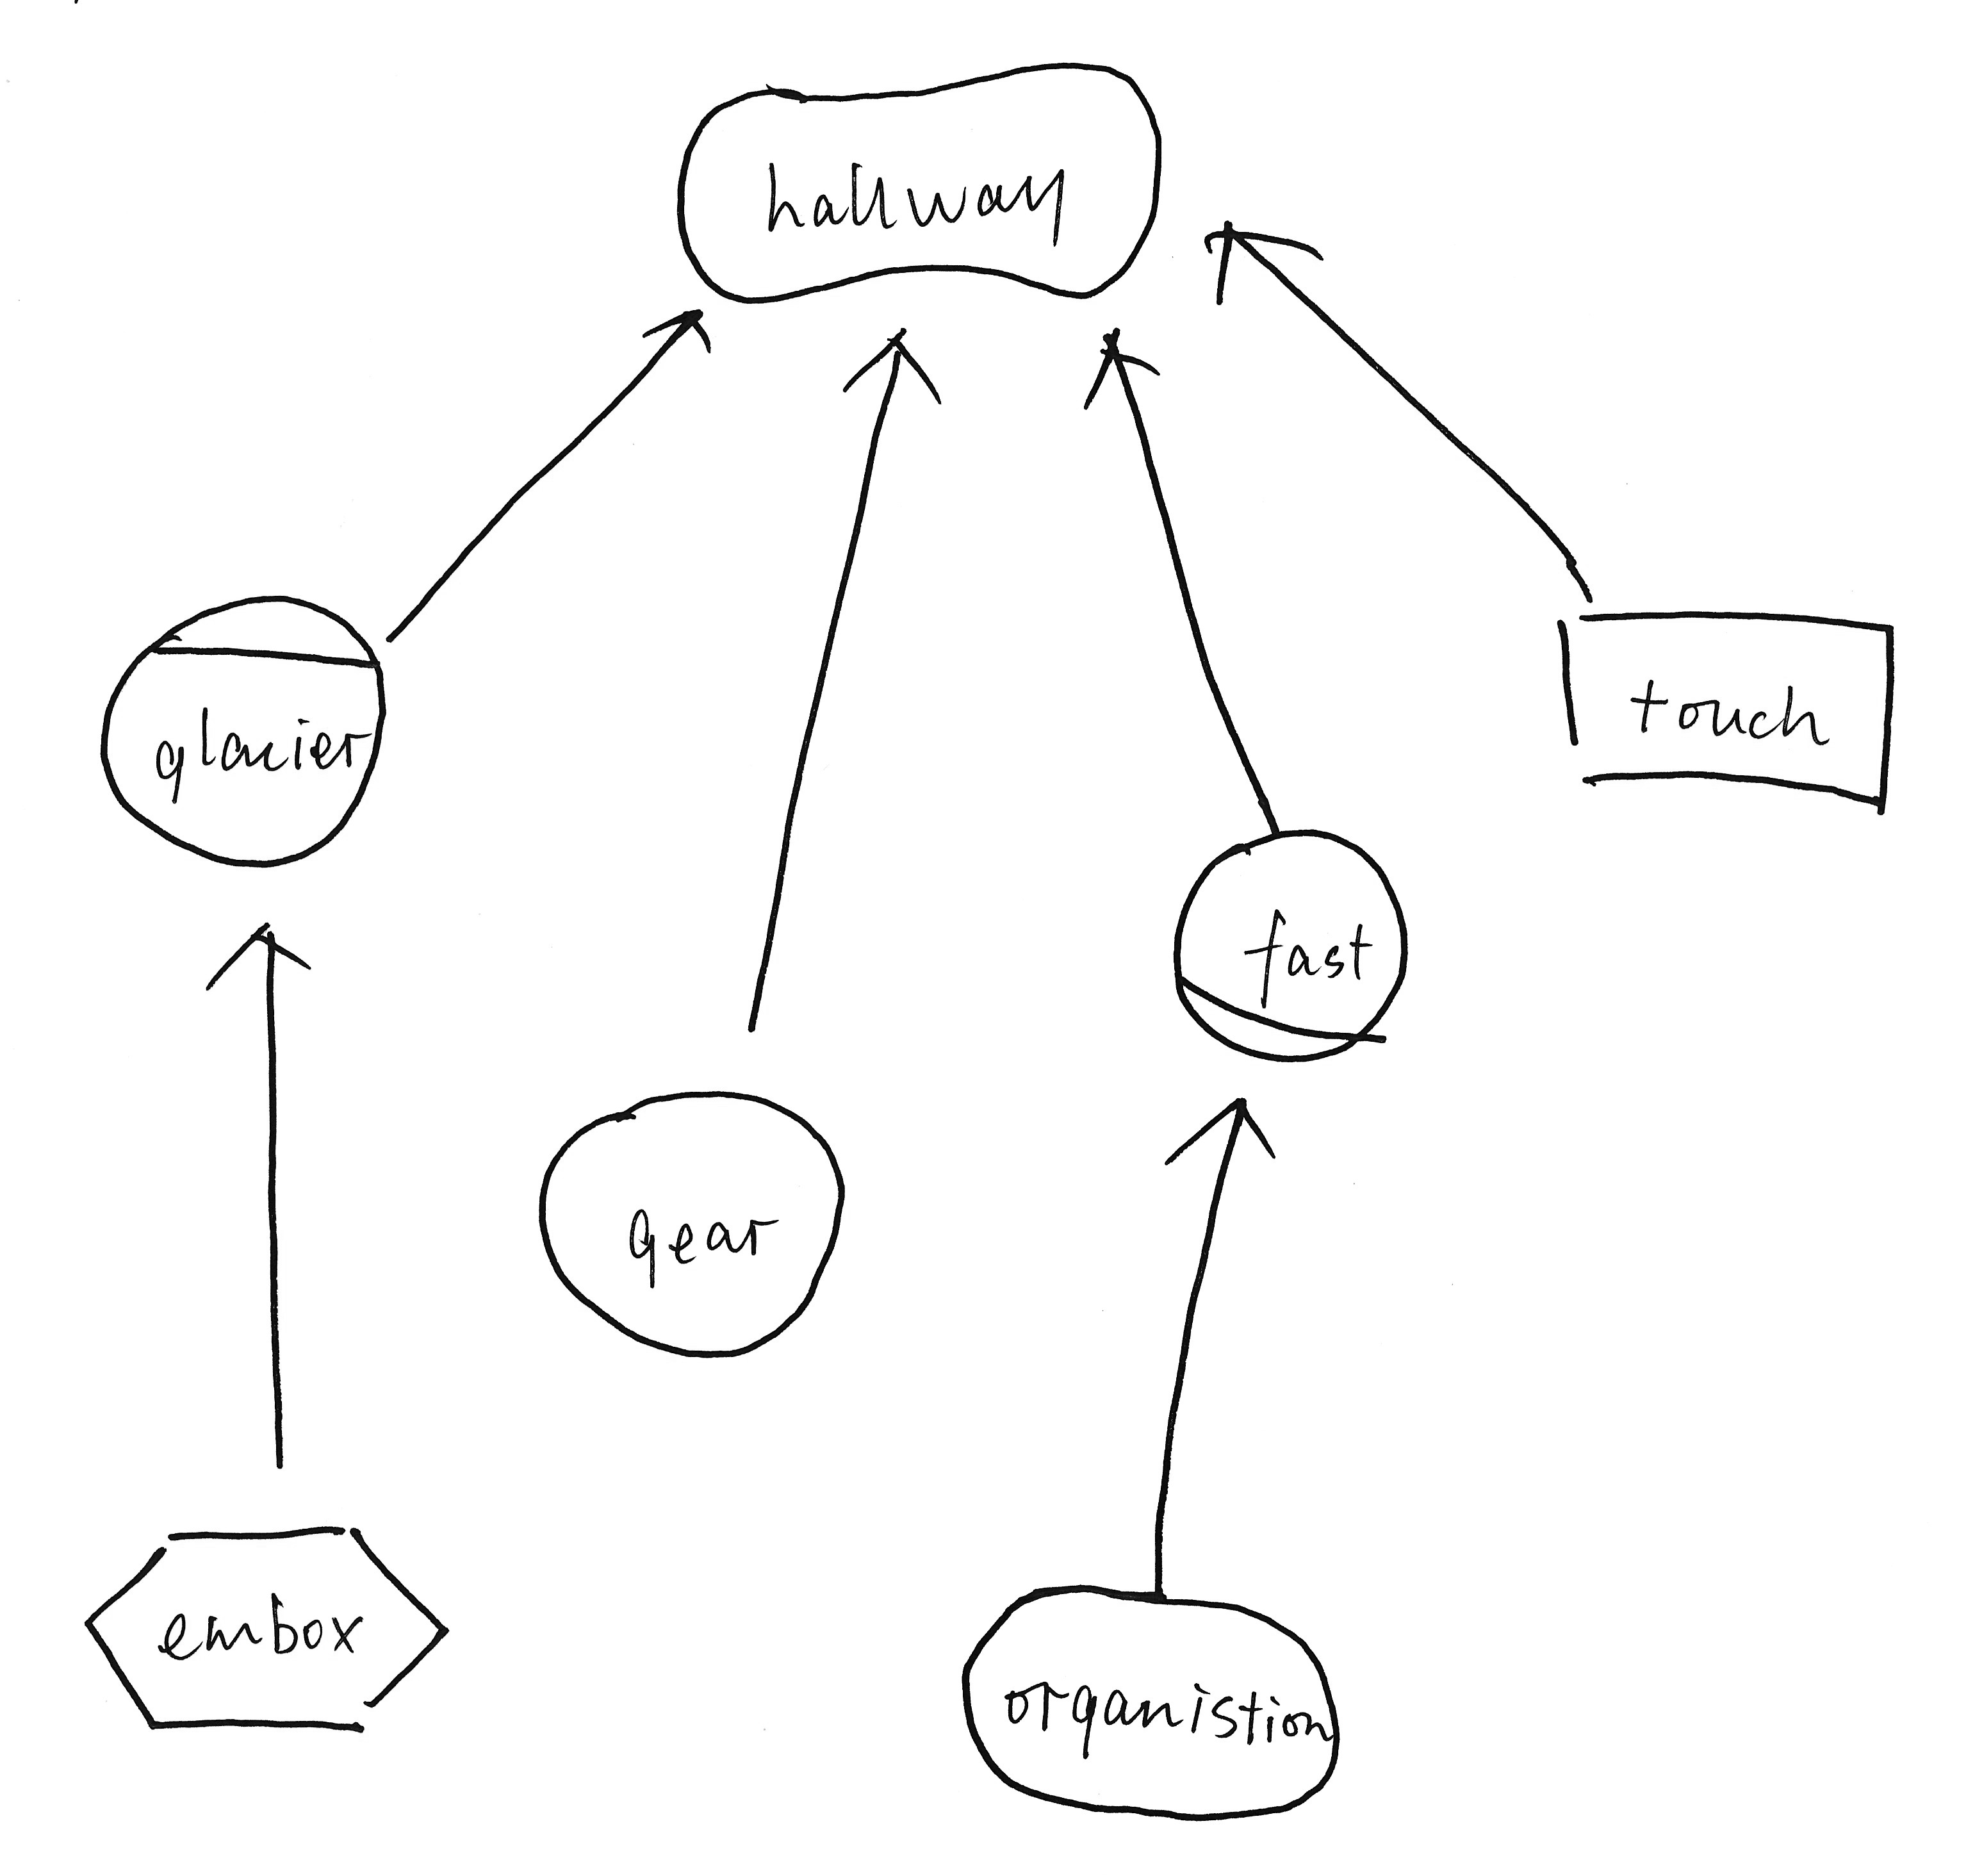actor: (520, 1070, 864, 1377)
agent: (79, 577, 402, 885)
arrow: (192, 906, 333, 1014), (1194, 212, 1330, 323), (831, 317, 958, 428), (1137, 1088, 1293, 1176), (1063, 316, 1171, 425), (628, 300, 723, 365)
goal: (950, 1569, 1358, 1837)
quality: (658, 37, 1181, 330)
resource: (1536, 596, 1920, 827)
role: (1153, 811, 1421, 1084)
task: (69, 1513, 466, 1753)
